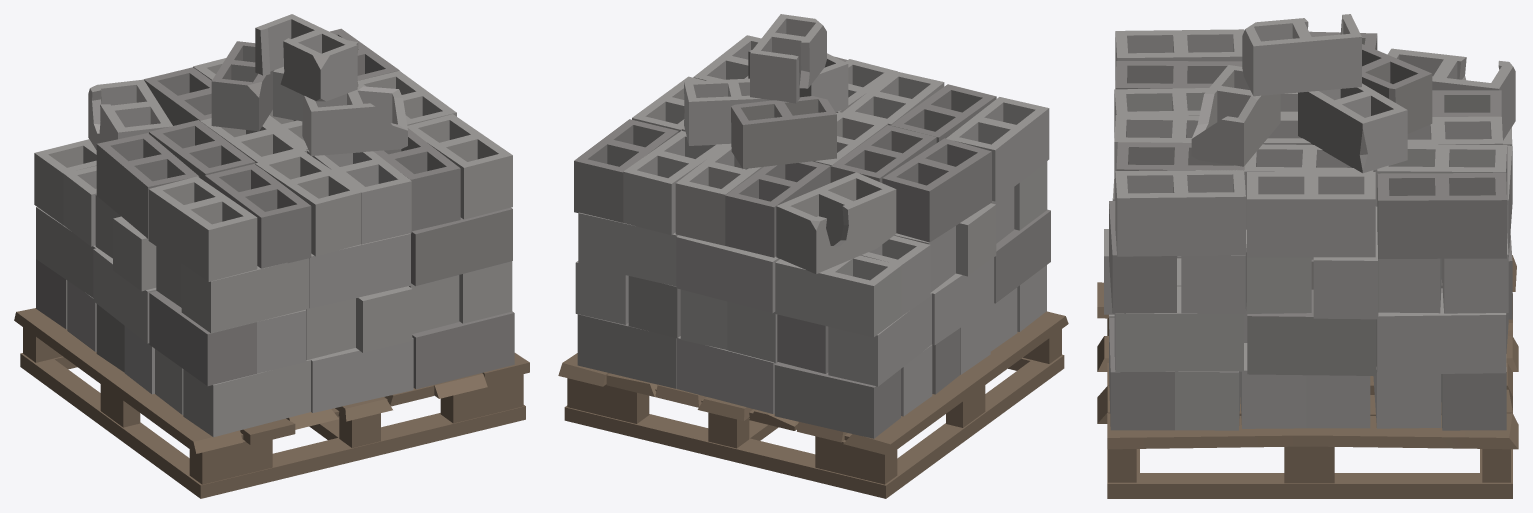
The model's file is SM_Prop_Construction_Blocks_03.obj.
3 renders of one model, left to right at view 1: azimuth 30°, elevation 25°; view 2: azimuth 150°, elevation 25°; view 3: azimuth 270°, elevation 25°, orthographic. The views are drawn at different scales.
Parts seen in each view (by area): view 1: SM_Prop_Construction_Blocks_03_0; view 2: SM_Prop_Construction_Blocks_03_0; view 3: SM_Prop_Construction_Blocks_03_0.
Boxes of the visible parts, x1,y1,x2,y2 form: SM_Prop_Construction_Blocks_03_0: (14,14,529,498); SM_Prop_Construction_Blocks_03_0: (558,14,1068,498); SM_Prop_Construction_Blocks_03_0: (1097,14,1518,498).
Size of the model in its own units: 1.46 by 1.47 by 1.42.
Materials: 1 (1 with a texture image).
